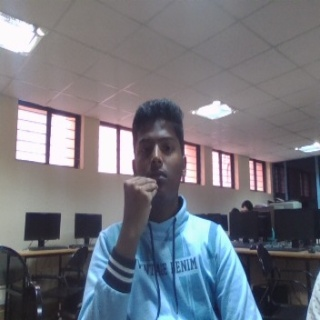Food: (118, 175, 161, 239)
